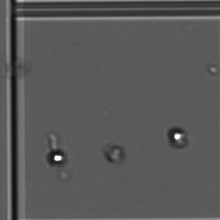Dead Cell: (105, 145, 123, 164)
Living Cell: (168, 127, 188, 146), (48, 150, 66, 165)
